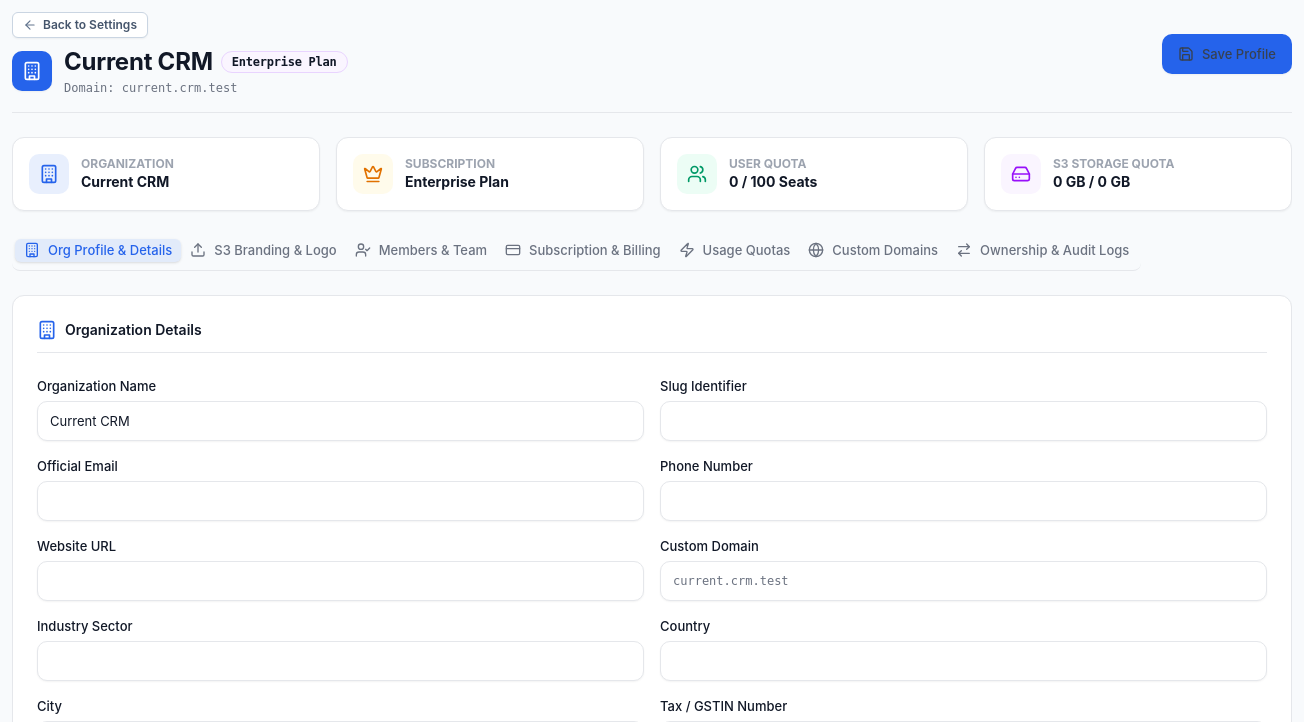
Organization detail route and current organization mode › renders truthful billing status: {"plan":"Enterprise","status":"past_due","provider_linked":true,"auto_renew":true,"amount":0,"currency":"INR","billing_cycle":"
Press the mouse on the tab "Subscription & Billing" at (583, 250), box top-left (496, 238), bottom-right (670, 262)
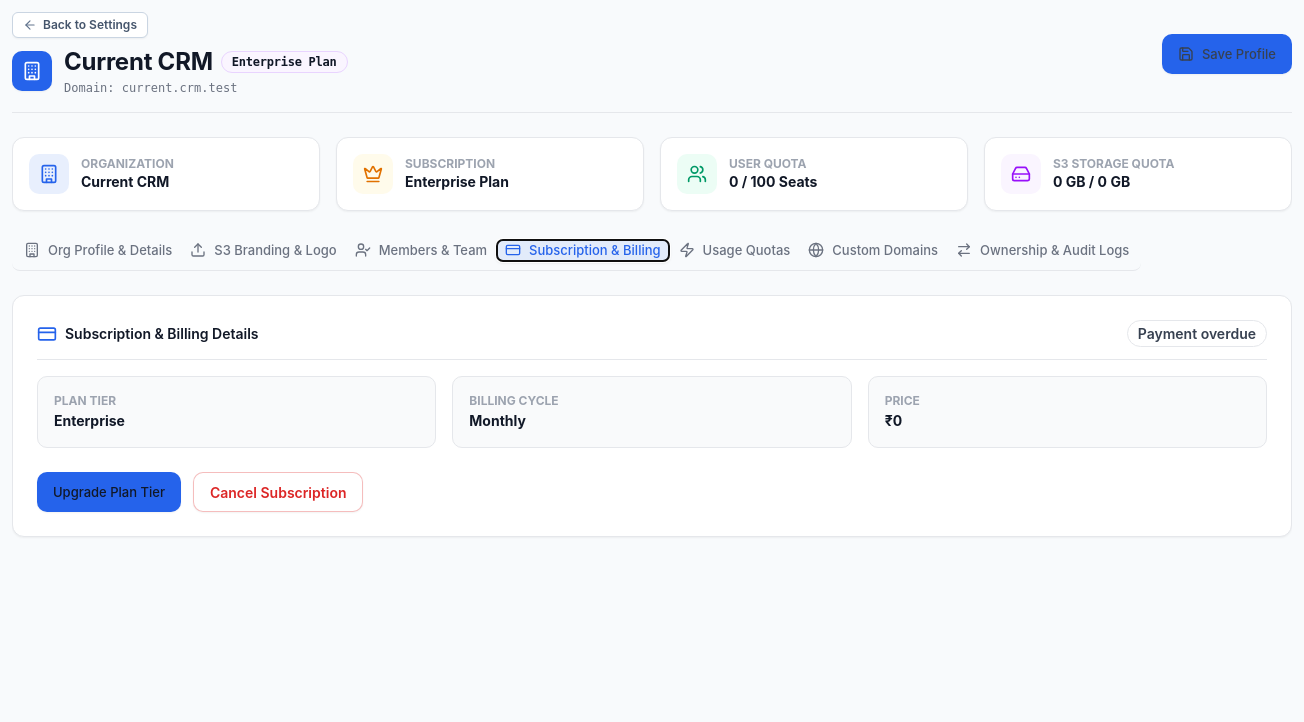
Expected: the text "Payment overdue" is shown, top-left (1127, 320), bottom-right (1267, 347)
